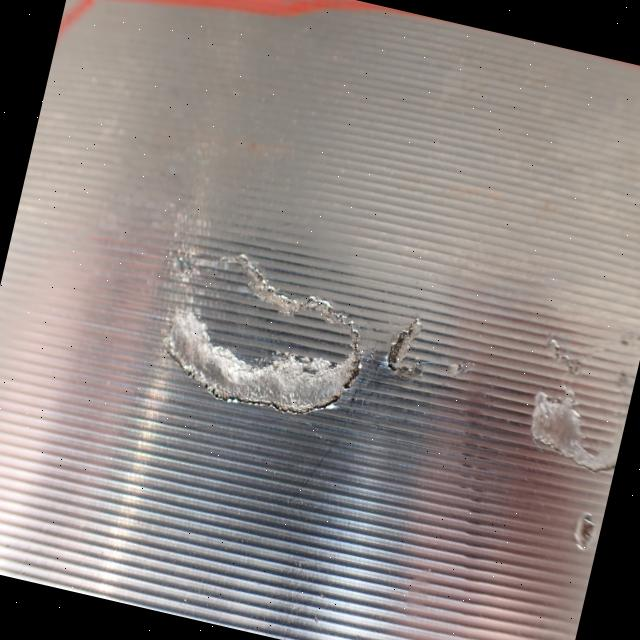Peeling: (148, 249, 374, 431), (523, 385, 630, 478), (382, 315, 428, 380), (570, 510, 599, 557)
